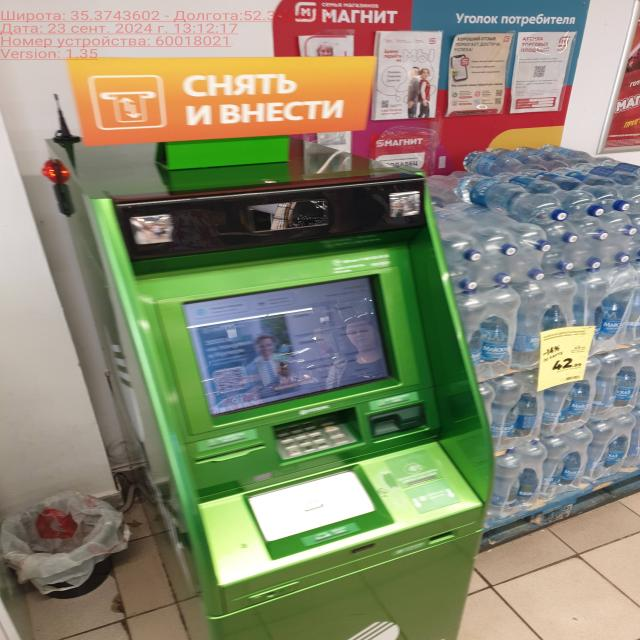bank: (44, 55, 491, 640)
